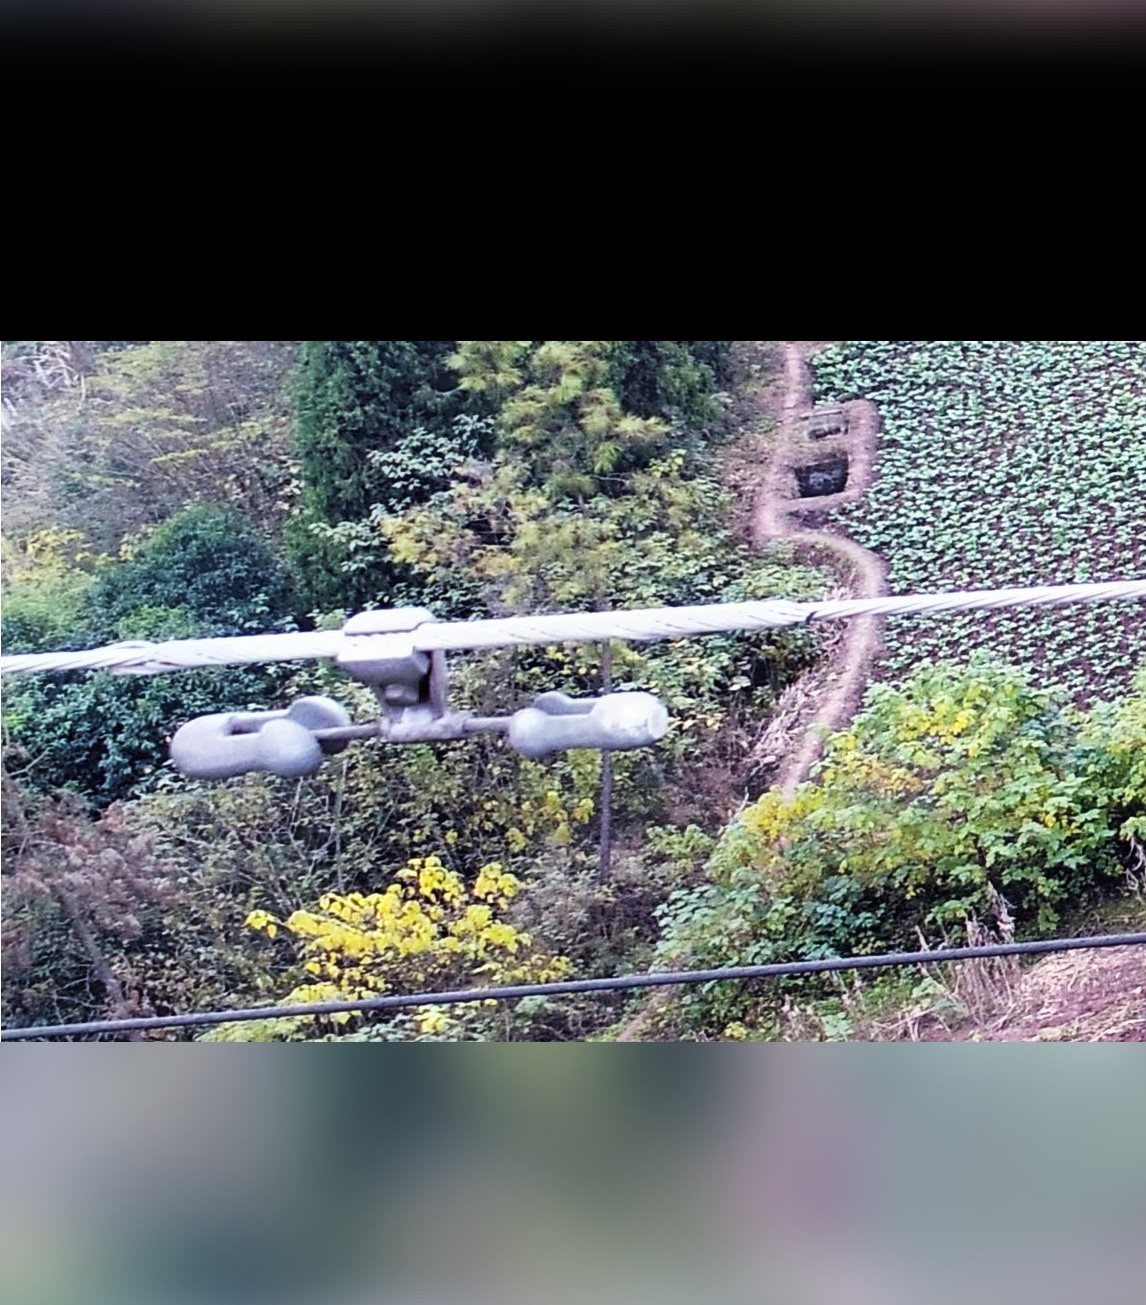Shockproof hammer: (149, 591, 677, 802)
